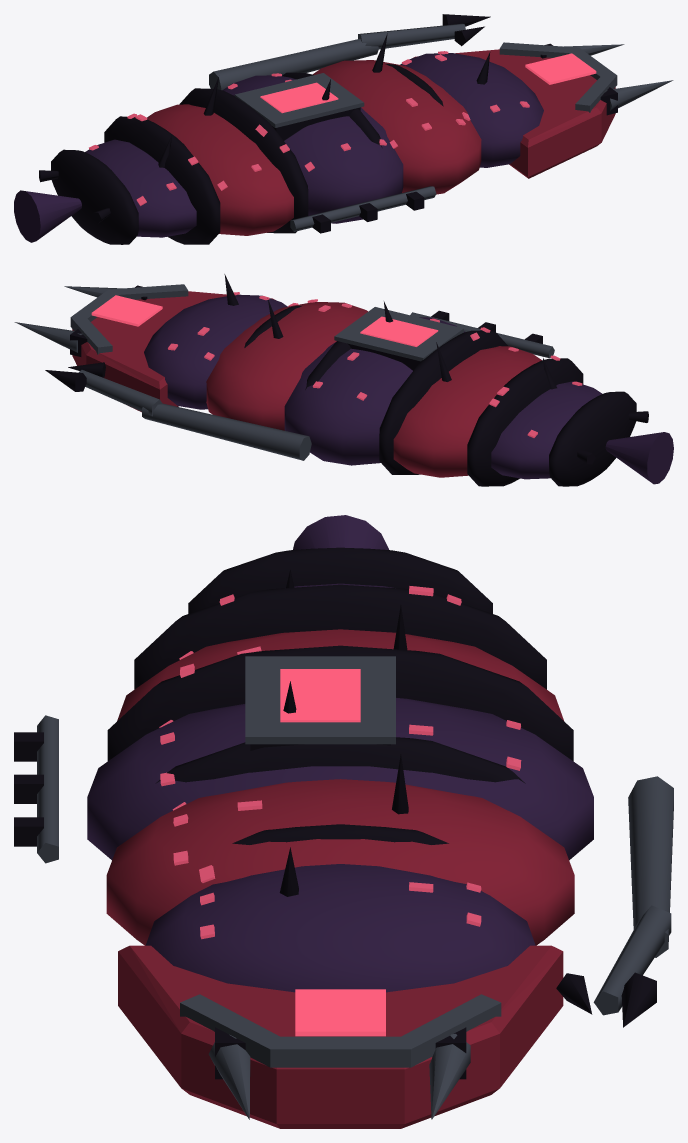
The model's file is dredge-directorate.glb.
3 views of the same model, one above another, from view 1: azimuth 30°, elevation 25°; view 2: azimuth 150°, elevation 25°; view 3: azimuth 270°, elevation 25° (orthographic). The views are drawn at different scales.
Parts seen in each view (by area): view 1: tergite_3, tergite_1, tergite_2, tergite_4, scoop, tergite_0, tergite_ridge_0, tergite_ridge_1, tergite_ridge_2, claw_arm, hopper_rim, telson (+10 smaller); view 2: tergite_3, tergite_2, tergite_1, tergite_4, tergite_0, scoop, tergite_ridge_0, tergite_ridge_1, tergite_ridge_2, claw_arm, hopper_rim, telson (+10 smaller); view 3: tergite_3, scoop, tergite_4, tergite_2, tergite_ridge_1, tergite_ridge_2, scoop_lip, tergite_ridge_0, hopper_rim, tergite_ridge_3, tergite_1, claw_arm (+9 smaller).
Boxes of the visible parts, x1,y1,x2,y2 form: tergite_3: [312, 60, 481, 194]; tergite_1: [147, 104, 293, 235]; tergite_2: [222, 75, 403, 223]; tergite_4: [400, 53, 543, 167]; scoop: [412, 49, 615, 178]; tergite_0: [85, 139, 196, 237]; tergite_ridge_0: [51, 149, 138, 244]; tergite_ridge_1: [104, 116, 220, 244]; tergite_ridge_2: [179, 88, 308, 233]; claw_arm: [209, 39, 378, 90]; hopper_rim: [234, 73, 364, 127]; telson: [14, 190, 81, 242]; tergite_3: [206, 302, 367, 430]; tergite_2: [284, 317, 464, 465]; tergite_1: [393, 346, 541, 477]; tergite_4: [144, 294, 287, 409]; tergite_0: [491, 381, 602, 479]; scoop: [72, 291, 274, 412]; tergite_ridge_0: [549, 391, 636, 486]; tergite_ridge_1: [467, 358, 583, 486]; tergite_ridge_2: [379, 330, 507, 474]; claw_arm: [142, 403, 311, 460]; hopper_rim: [334, 307, 463, 361]; telson: [605, 432, 673, 484]; tergite_3: [106, 779, 574, 945]; scoop: [118, 945, 563, 1128]; tergite_4: [145, 864, 535, 992]; tergite_2: [87, 698, 593, 860]; tergite_ridge_1: [134, 584, 546, 689]; tergite_ridge_2: [107, 645, 573, 761]; scoop_lip: [180, 994, 501, 1067]; tergite_ridge_0: [188, 547, 492, 613]; hopper_rim: [245, 656, 395, 744]; tergite_ridge_3: [155, 737, 525, 783]; tergite_1: [117, 629, 563, 720]; claw_arm: [628, 776, 673, 957].
Size of the model in its own units: 120 by 24.89 by 59.27.
